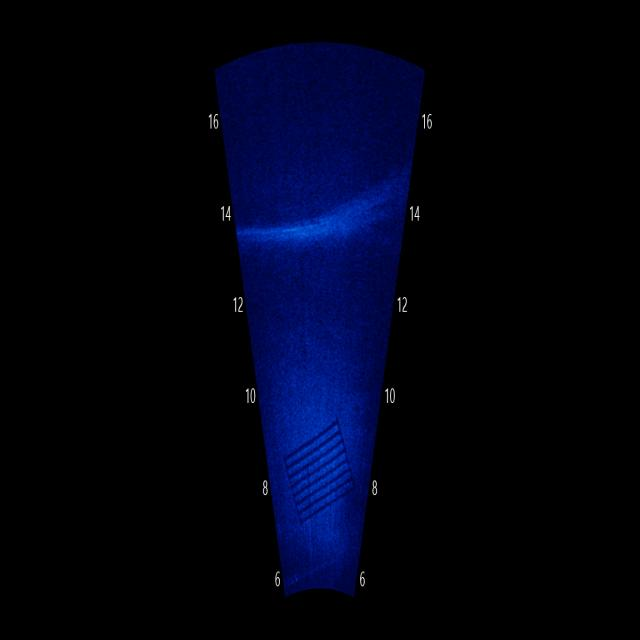square: (280, 410, 358, 537)
